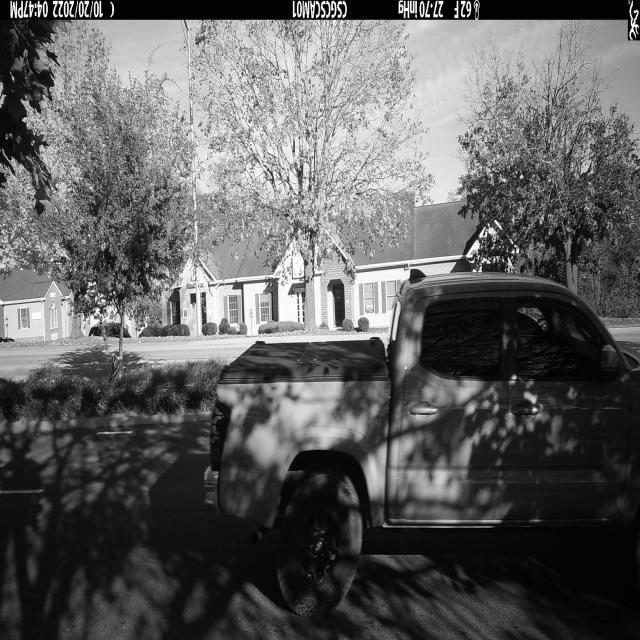Pickup: (201, 267, 640, 624)
